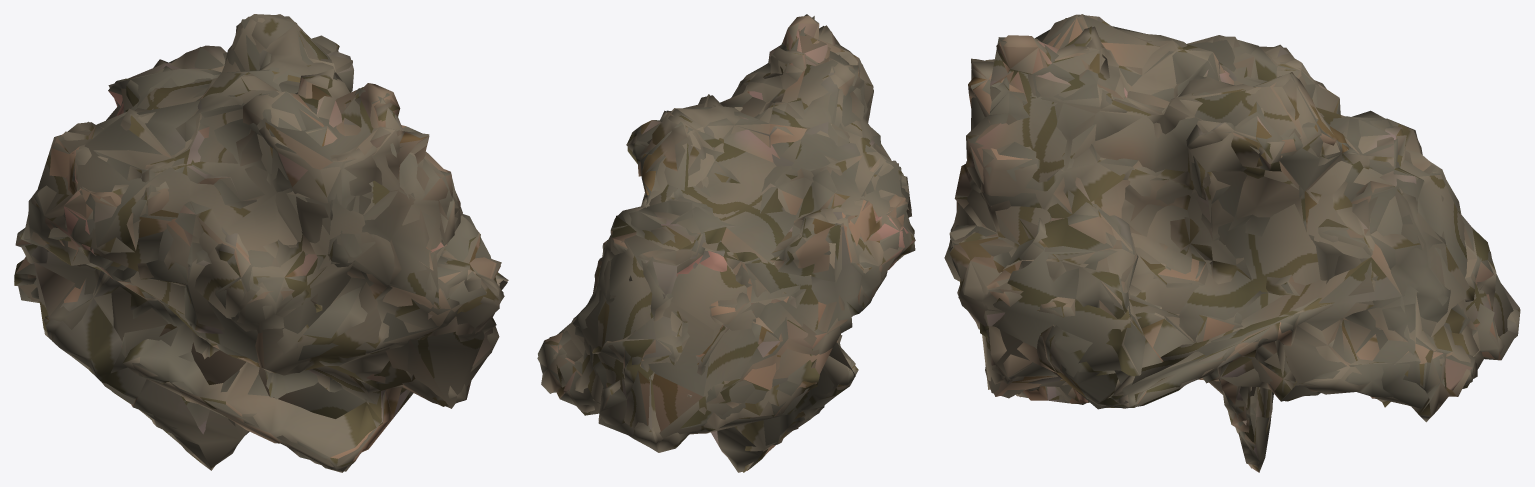
Rendered from helios_rock_c.glb.
3 renders of one model, left to right at view 1: azimuth 30°, elevation 25°; view 2: azimuth 150°, elevation 25°; view 3: azimuth 270°, elevation 25°, orthographic. The views are drawn at different scales.
Visible parts, largest first — view 1: LOD0_Merged_Material_Rock, LOD2_Merged_Material_Rock, LOD1_Merged_Material_Rock; view 2: LOD0_Merged_Material_Rock, LOD2_Merged_Material_Rock, LOD1_Merged_Material_Rock; view 3: LOD0_Merged_Material_Rock, LOD2_Merged_Material_Rock, LOD1_Merged_Material_Rock.
Part boxes in pixels (x1,y1,x2,y2): LOD0_Merged_Material_Rock: (14,14,508,472); LOD2_Merged_Material_Rock: (15,16,507,471); LOD1_Merged_Material_Rock: (18,14,503,471); LOD0_Merged_Material_Rock: (537,15,915,472); LOD2_Merged_Material_Rock: (553,16,915,470); LOD1_Merged_Material_Rock: (538,14,915,472); LOD0_Merged_Material_Rock: (944,14,1520,472); LOD2_Merged_Material_Rock: (949,14,1513,468); LOD1_Merged_Material_Rock: (944,16,1519,463).
Size of the model in its own units: 10.59 by 11.48 by 13.11.
Materials: 3 (3 with a texture image).
